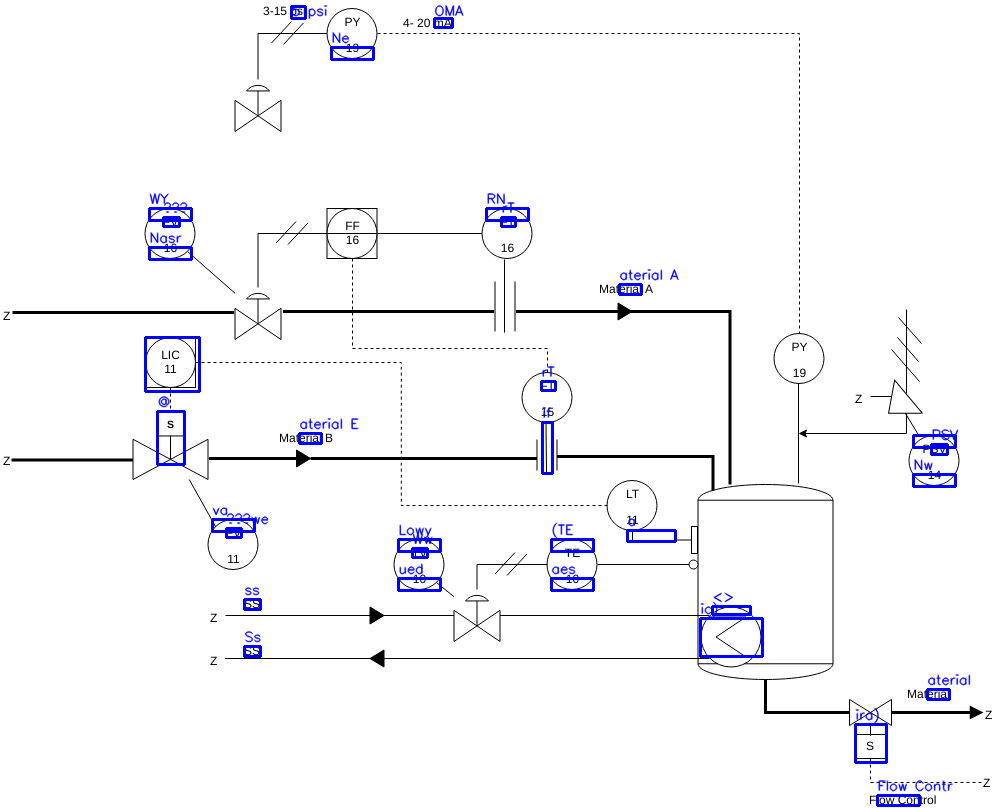Instrumento: (128, 406, 212, 483), (516, 364, 588, 426), (477, 205, 536, 263), (142, 204, 198, 261), (324, 7, 383, 61), (771, 330, 826, 387), (204, 516, 260, 571), (230, 290, 286, 344), (545, 537, 599, 593), (906, 434, 960, 487), (604, 479, 659, 531)
Tanque: (693, 480, 840, 682), (140, 335, 199, 390)
Válvula: (845, 693, 895, 763), (228, 80, 289, 137), (449, 590, 506, 642), (392, 538, 446, 590)
